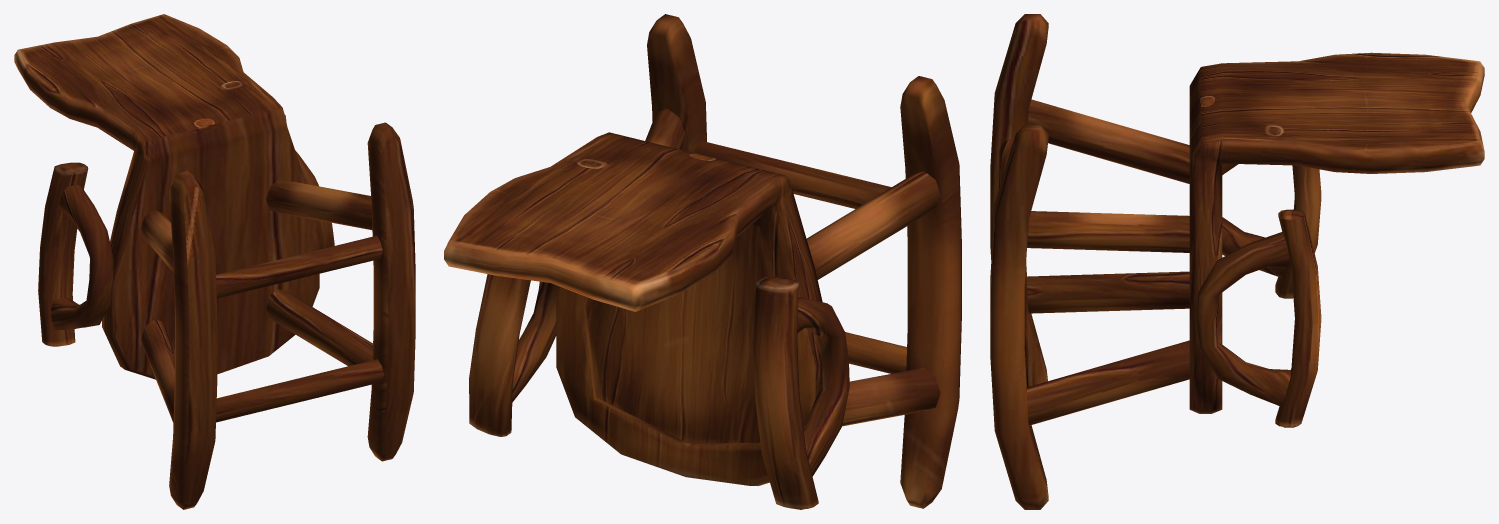
The model's file is Silla Mecedora Fin.FBX.
3 views of the same model, side by side, from view 1: azimuth 30°, elevation 25°; view 2: azimuth 150°, elevation 25°; view 3: azimuth 270°, elevation 25° (orthographic). The views are drawn at different scales.
Parts seen in each view (by area): view 1: SillaMecedora; view 2: SillaMecedora; view 3: SillaMecedora.
Boxes of the visible parts, x1=… form: SillaMecedora: x1=14, y1=14, x2=415, y2=509; SillaMecedora: x1=444, y1=14, x2=961, y2=509; SillaMecedora: x1=990, y1=14, x2=1484, y2=509.
Bounding box in the file's own units: 52.29 × 61.48 × 72.61.
Materials: 1 (1 with a texture image).
